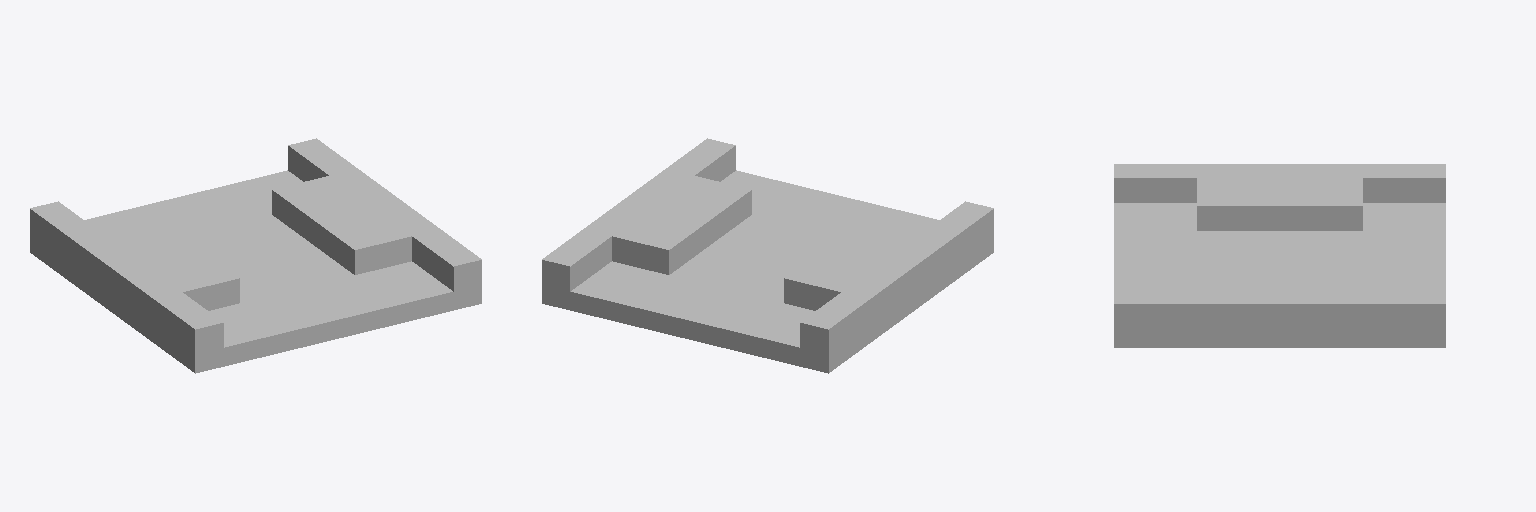
File: narrowBlock.obj
3 views of the same model, side by side, from view 1: azimuth 30°, elevation 25°; view 2: azimuth 150°, elevation 25°; view 3: azimuth 270°, elevation 25° (orthographic).
Parts seen in each view (by area): view 1: narrowBlock; view 2: narrowBlock; view 3: narrowBlock.
Part boxes in pixels (bbox=[...]): narrowBlock: bbox=[30, 138, 481, 373]; narrowBlock: bbox=[542, 138, 993, 373]; narrowBlock: bbox=[1114, 164, 1445, 347].
Size of the model in its own units: 0.9999 by 0.1467 by 0.9999.